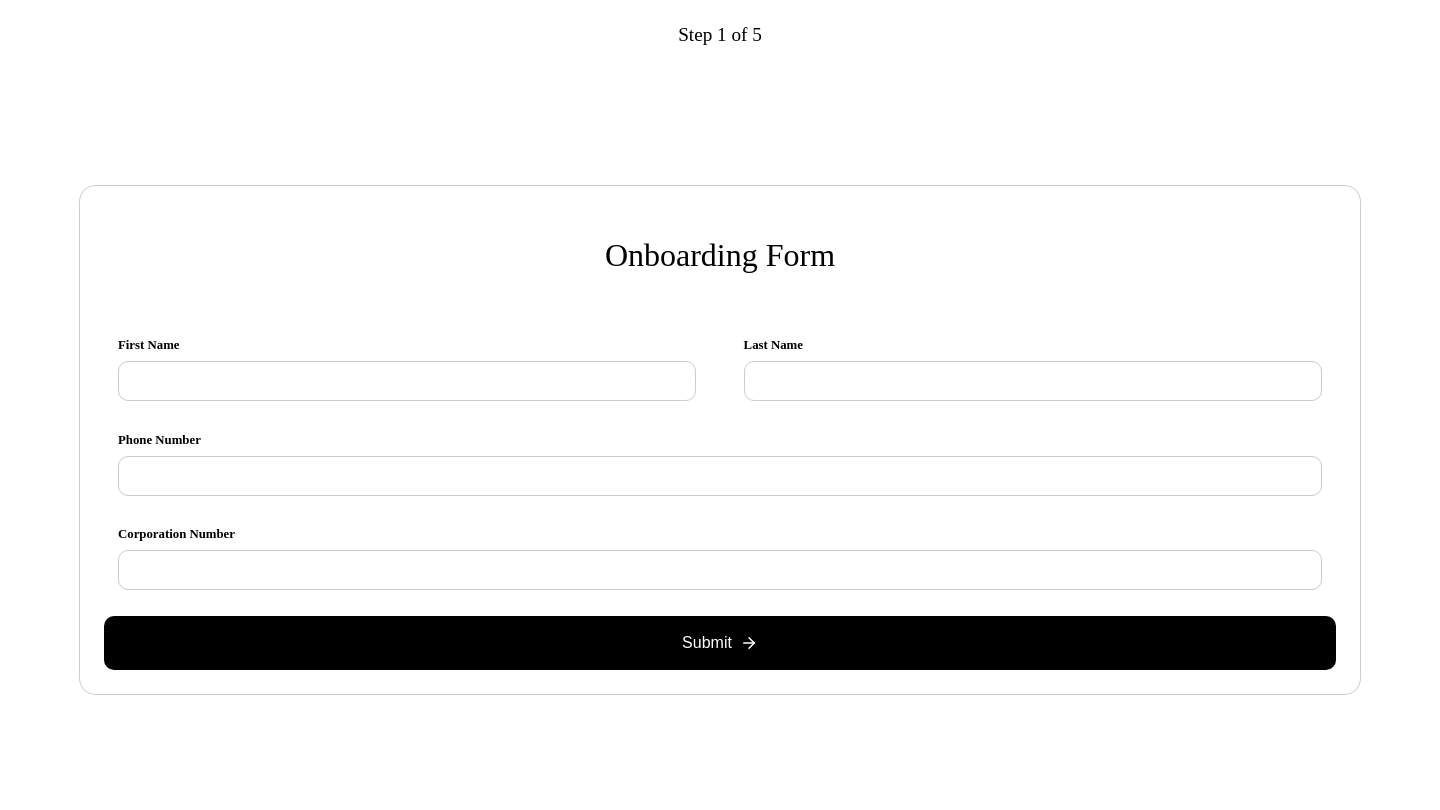
OnboardingForm › displays required error message when submitting empty form
Click the button "Submit": [720, 643] box [104,616,1336,670]
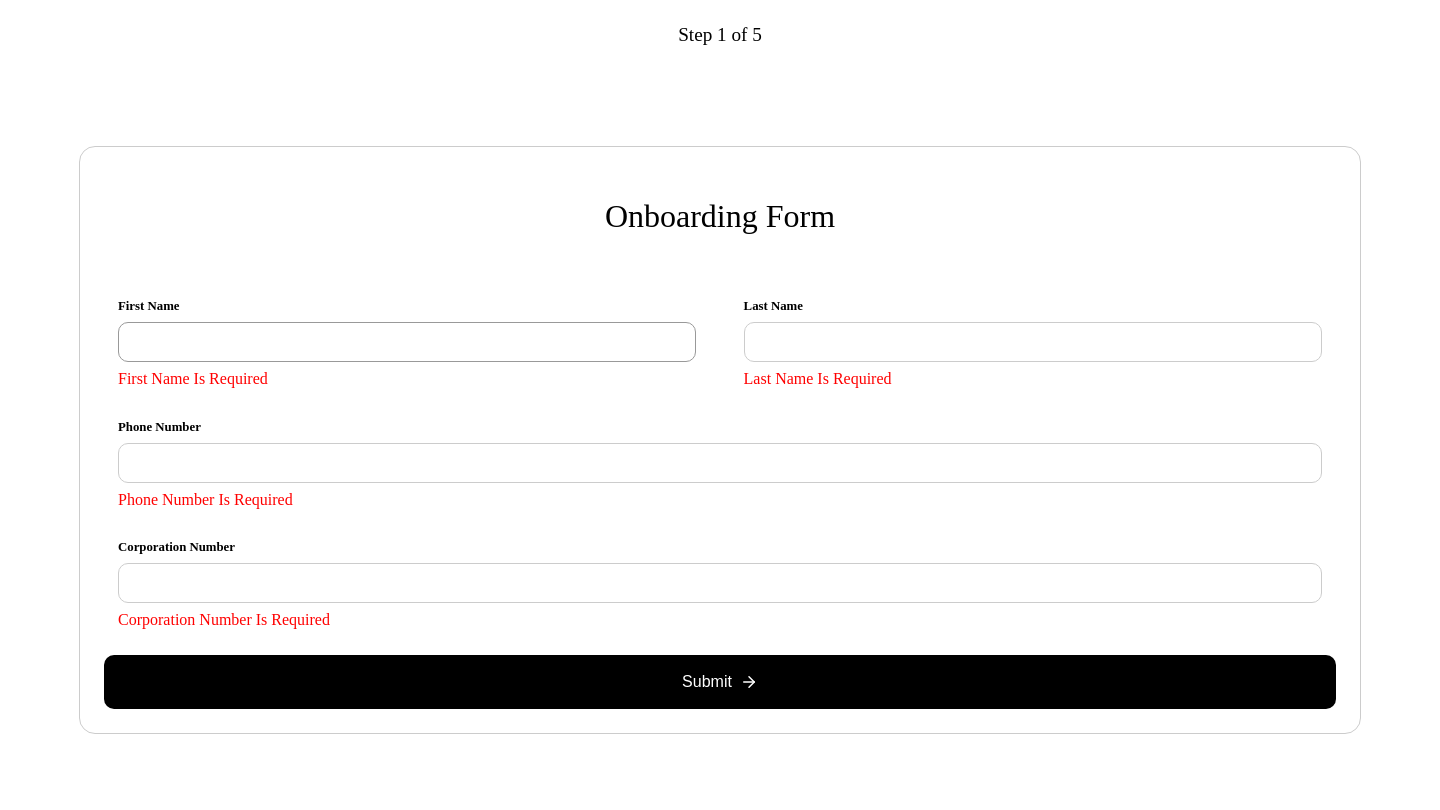
Expected: the text "First Name is required" is shown, [118,370,268,387]
Expected: the text "Last Name is required" is shown, [744,370,892,387]
Expected: the text "Phone Number is required" is shown, [118,491,293,508]
